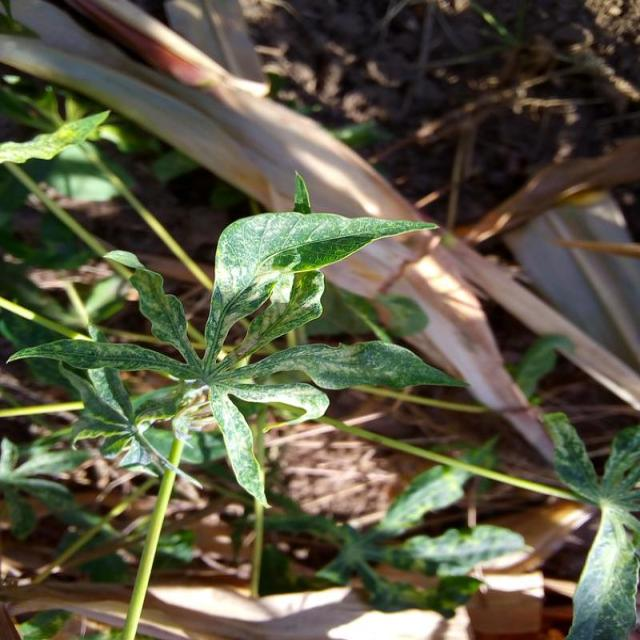cassava leaf: (6, 172, 468, 509)
